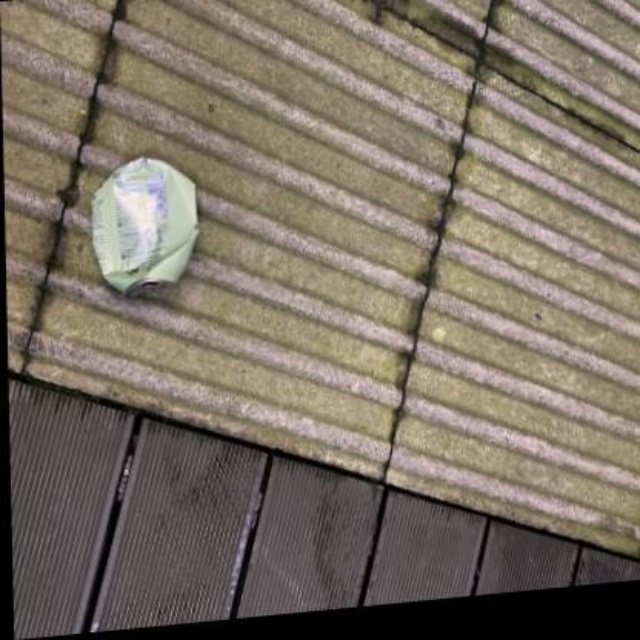trash: (92, 157, 197, 294)
